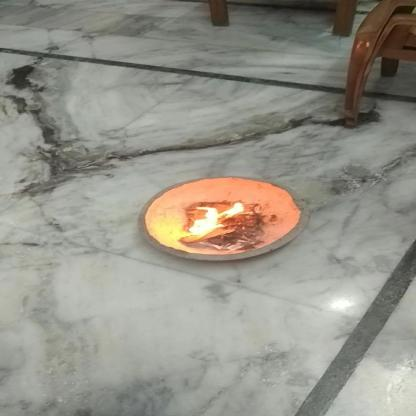fire: (175, 199, 252, 239)
